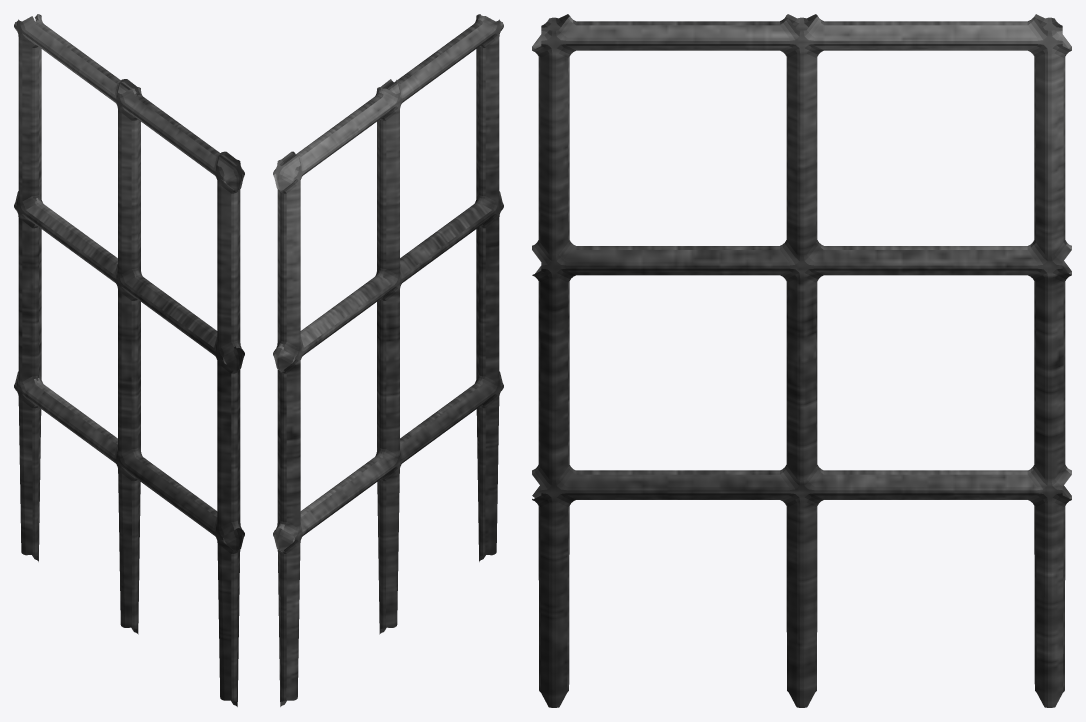
The model's file is Lvl1_cube_door.fbx.
The picture shows the model from 3 angles, left to right: view 1: azimuth 30°, elevation 25°; view 2: azimuth 150°, elevation 25°; view 3: azimuth 270°, elevation 25°; orthographic projection. The views are drawn at different scales.
Parts seen in each view (by area): view 1: Cube door; view 2: Cube door; view 3: Cube door.
Part boxes in pixels (x1,y1,x2,y2): Cube door: (14, 14, 244, 706); Cube door: (273, 14, 503, 706); Cube door: (532, 14, 1071, 707).
Bounding box in the file's own units: 0.1632 × 4 × 2.84.
Materials: 1 (1 with a texture image).
